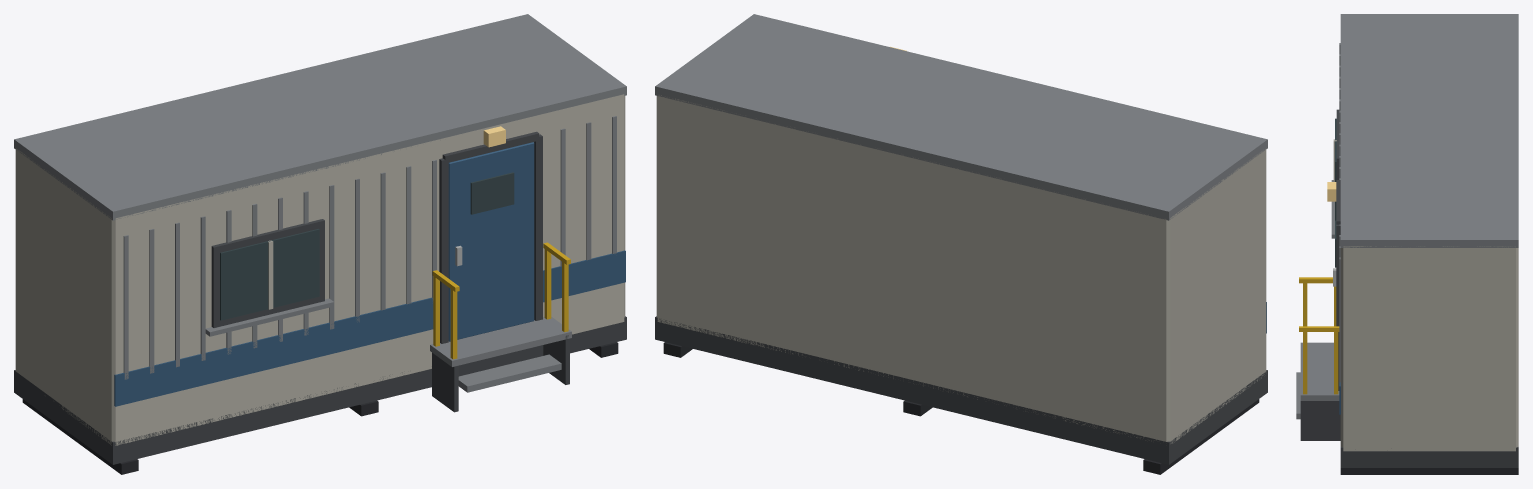
The model's file is site_trailer.fbx.
3 views of the same model, side by side, from view 1: azimuth 30°, elevation 25°; view 2: azimuth 150°, elevation 25°; view 3: azimuth 270°, elevation 25° (orthographic). The views are drawn at different scales.
Visible parts, largest first — view 1: site_trailer; view 2: site_trailer; view 3: site_trailer.
Part boxes in pixels (box(x1,y1,x2,y2)): site_trailer: box(14, 14, 626, 474); site_trailer: box(655, 14, 1267, 474); site_trailer: box(1296, 14, 1518, 474).
Bounding box in the file's own units: 6 × 2.96 × 2.5.
